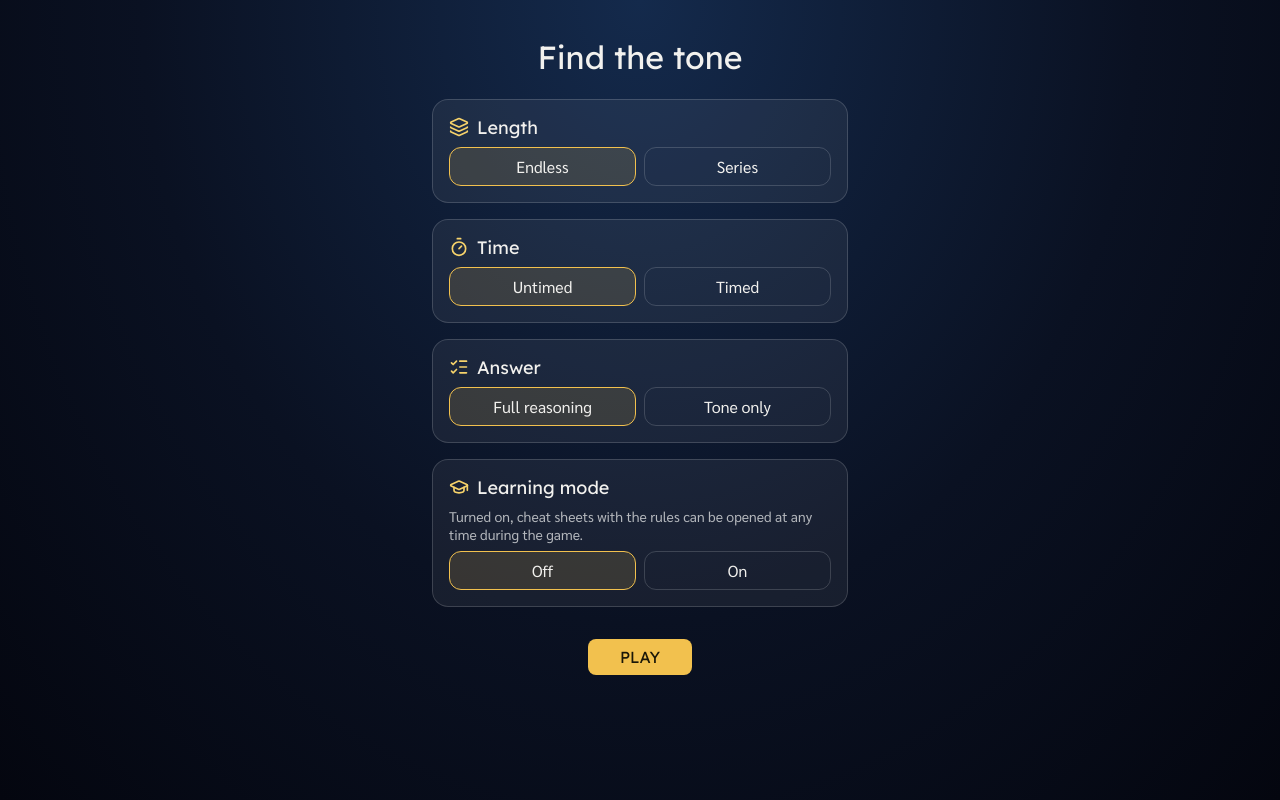
Scenario: SetupPage › proposes 10 questions when switching to a series
This screenshot has width=1280, height=800.
Click the radio button labelled "Series" at (738, 166), box [644,147,831,186]
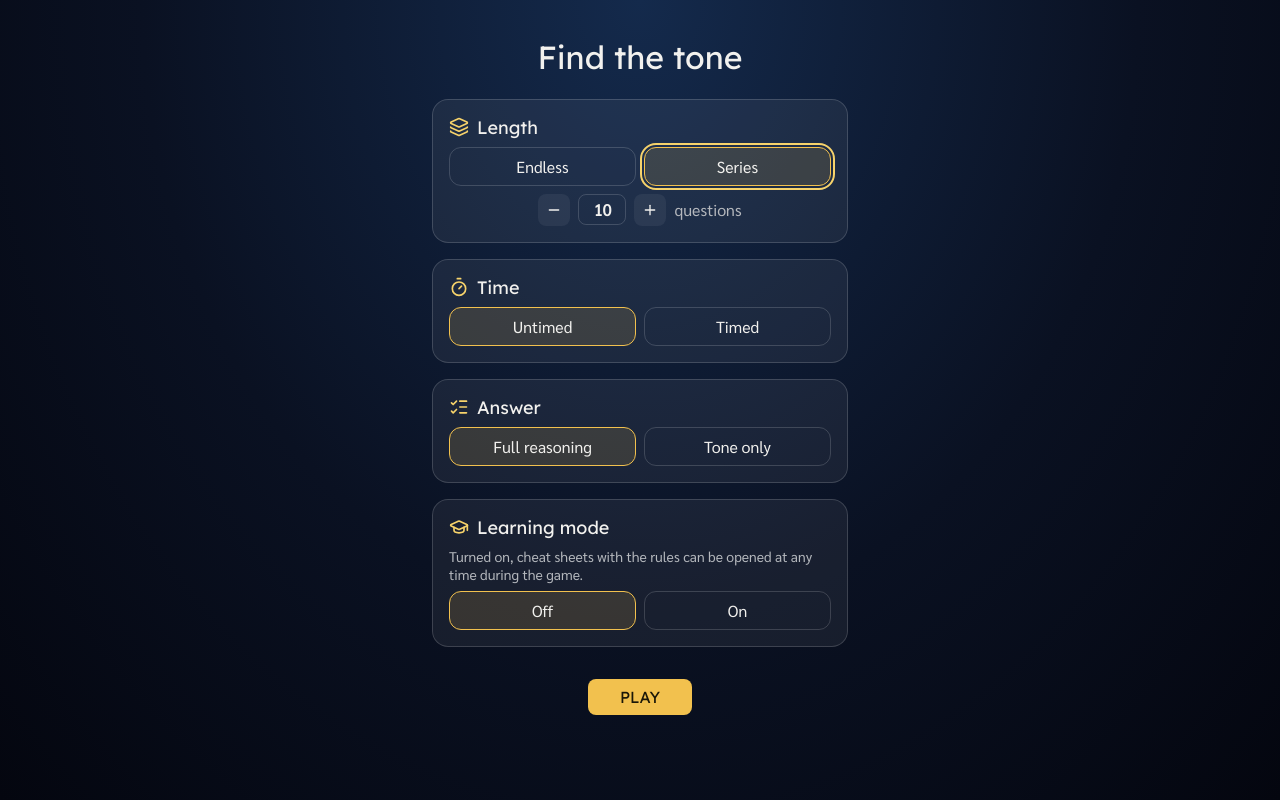
Expected: the number field named "Number of questions" holds "10", [578,194,626,225]
